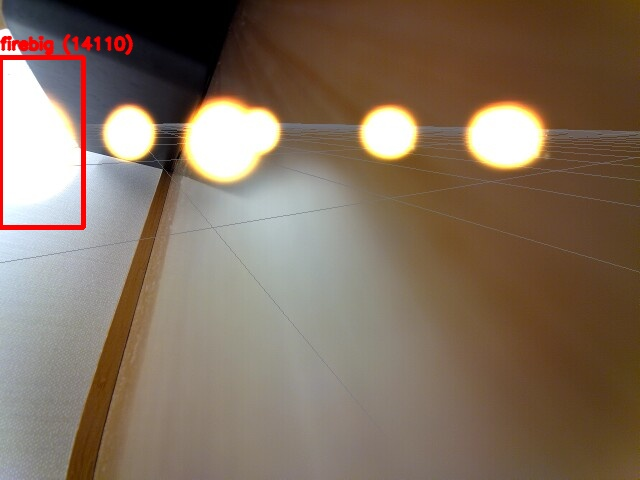firebig: (0, 57, 83, 227)
